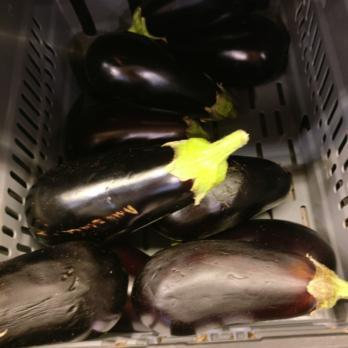Brinjal: (0, 12, 336, 348)
